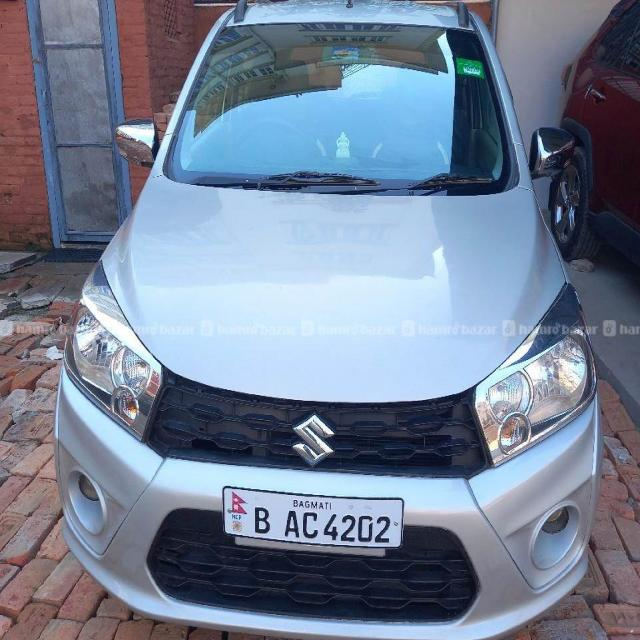License-plate: (218, 475, 406, 557)
